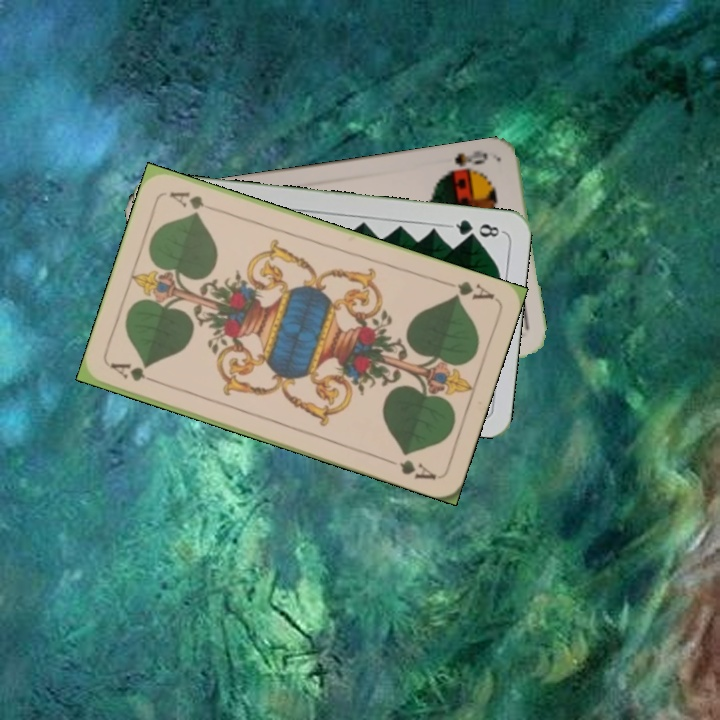G8: (446, 215, 505, 241)
GA: (106, 358, 164, 387), (439, 277, 497, 303)
SO: (438, 146, 491, 179)
